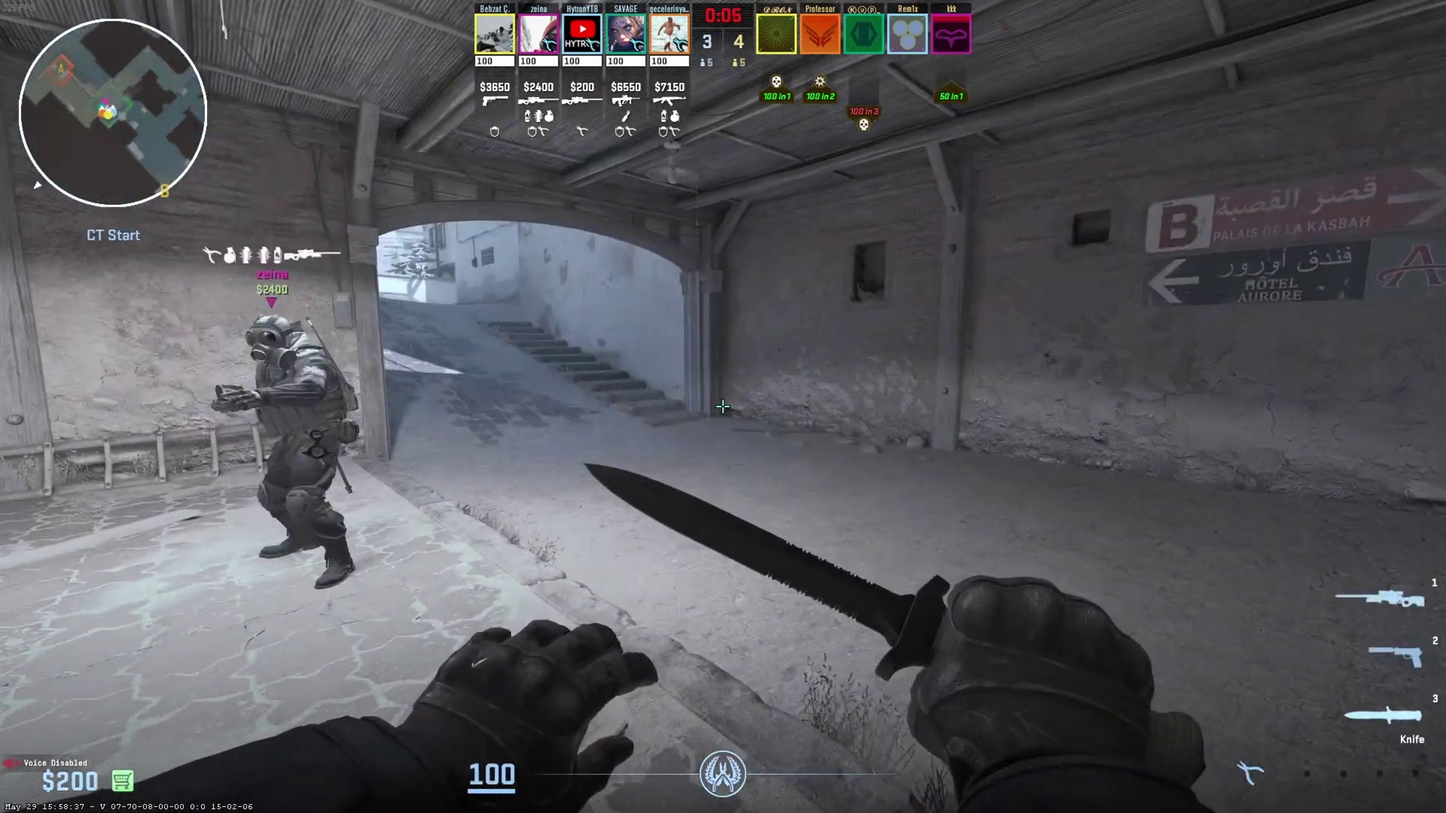CT: (245, 317, 355, 582)
